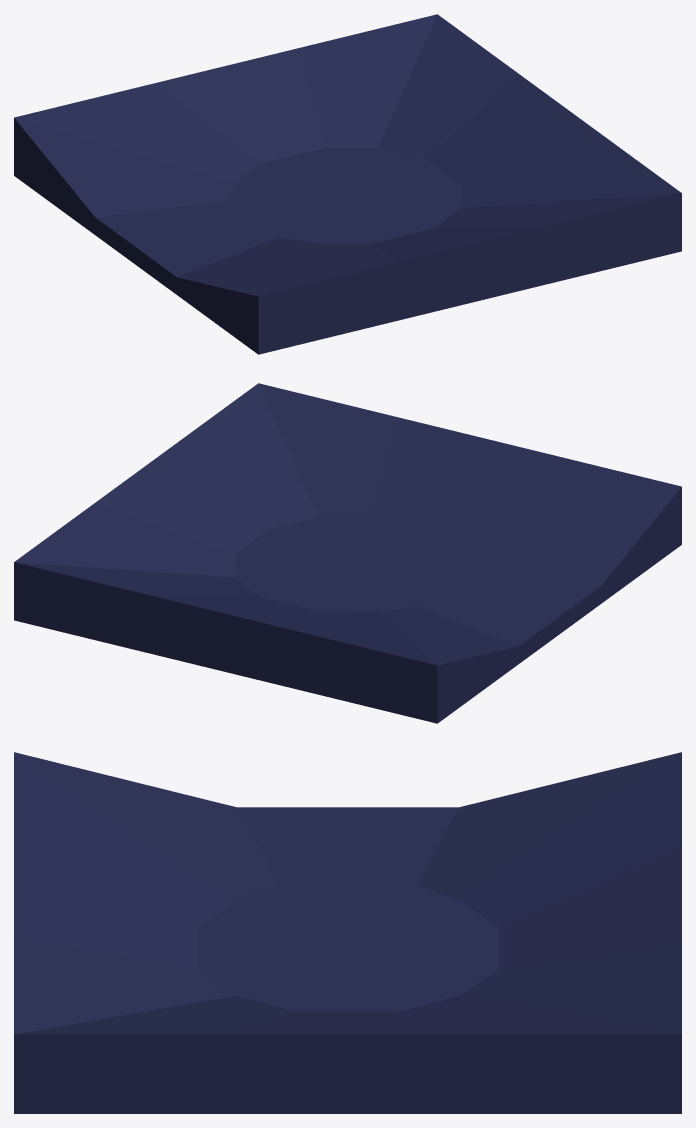
The model's file is end.glb.
The picture shows the model from 3 angles, top to bottom: view 1: azimuth 30°, elevation 25°; view 2: azimuth 150°, elevation 25°; view 3: azimuth 270°, elevation 25°; orthographic projection. The views are drawn at different scales.
Parts seen in each view (by area): view 1: End; view 2: End; view 3: End.
Part boxes in pixels (x1,y1,x2,y2): End: (14, 14, 681, 354); End: (14, 383, 681, 723); End: (14, 752, 681, 1113).
Bounding box in the file's own units: 93.58 × 12.29 × 93.58.
